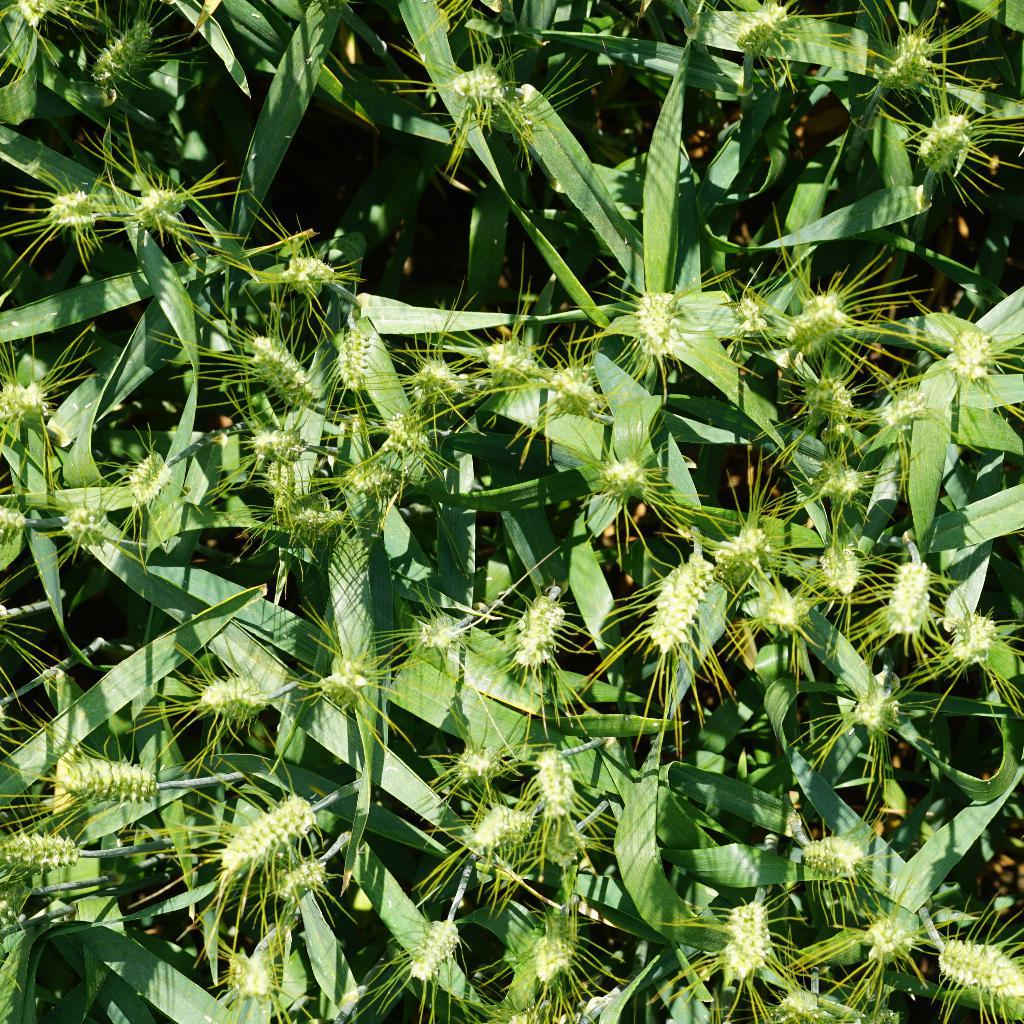0-0: (206, 795, 329, 877), (49, 747, 176, 814), (649, 544, 718, 661), (940, 930, 1024, 1023), (79, 12, 167, 93), (235, 322, 311, 403), (799, 834, 893, 896), (882, 549, 942, 646), (885, 21, 960, 98), (742, 570, 817, 647), (721, 886, 785, 976), (6, 829, 107, 884), (524, 742, 587, 830), (444, 48, 519, 120), (404, 908, 469, 989), (509, 586, 571, 668), (260, 848, 342, 908), (520, 903, 580, 985), (271, 245, 351, 306), (264, 477, 339, 542), (728, 0, 803, 64), (768, 291, 854, 344), (215, 940, 283, 1006), (463, 795, 526, 864), (0, 366, 70, 428), (908, 115, 979, 176), (934, 328, 1001, 391), (811, 462, 882, 520), (111, 443, 175, 507), (626, 291, 683, 362), (447, 733, 512, 795), (395, 348, 462, 408), (195, 673, 273, 724), (130, 176, 194, 238), (855, 679, 916, 743), (591, 445, 656, 504), (953, 600, 1011, 666), (549, 361, 610, 423), (408, 605, 482, 656), (712, 518, 778, 575), (38, 182, 100, 242), (855, 911, 918, 970), (808, 376, 858, 449), (374, 408, 443, 460), (329, 324, 384, 388), (317, 661, 378, 717), (490, 87, 546, 148), (815, 538, 869, 601), (482, 337, 537, 395), (768, 979, 837, 1024), (538, 813, 593, 868), (342, 468, 410, 512), (878, 380, 933, 434), (261, 449, 308, 510), (55, 503, 107, 556), (721, 292, 777, 336), (245, 418, 295, 467)
